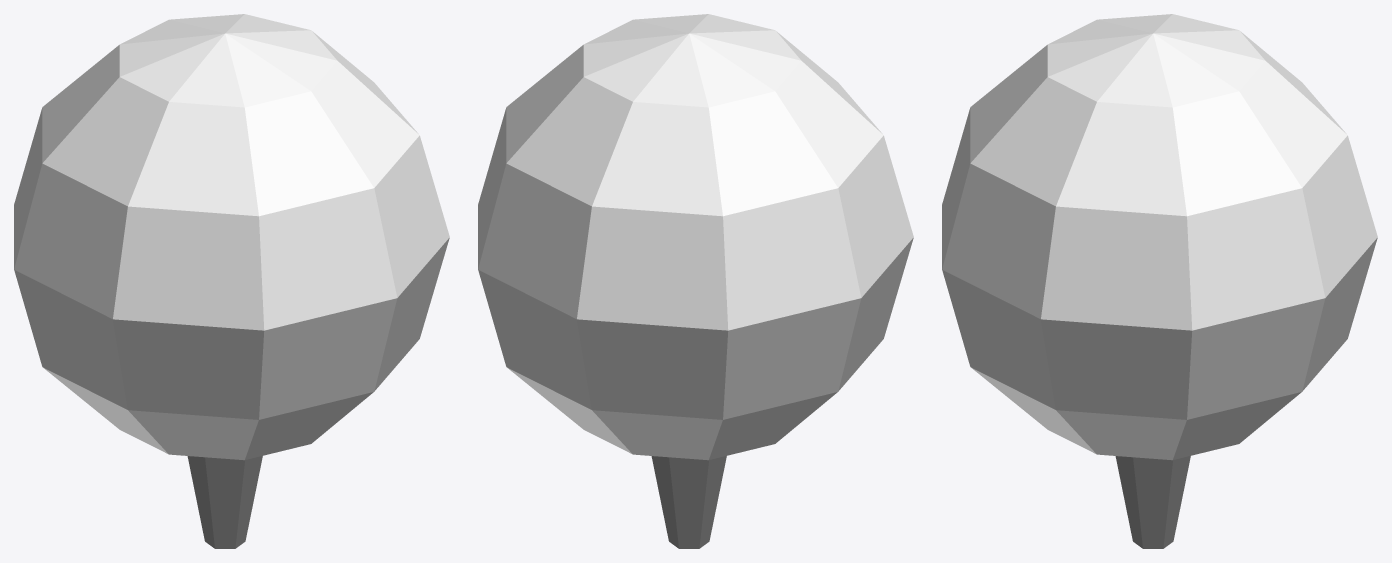
The model's file is pin.fbx.
3 views of the same model, side by side, from view 1: azimuth 30°, elevation 25°; view 2: azimuth 150°, elevation 25°; view 3: azimuth 270°, elevation 25° (orthographic).
Visible parts, largest first — view 1: Pin; view 2: Pin; view 3: Pin.
Part boxes in pixels (bbox=[...]): Pin: bbox=[14, 14, 449, 548]; Pin: bbox=[478, 14, 913, 548]; Pin: bbox=[942, 14, 1377, 548].
Bounding box in the file's own units: 9.85 × 12.47 × 9.7.
